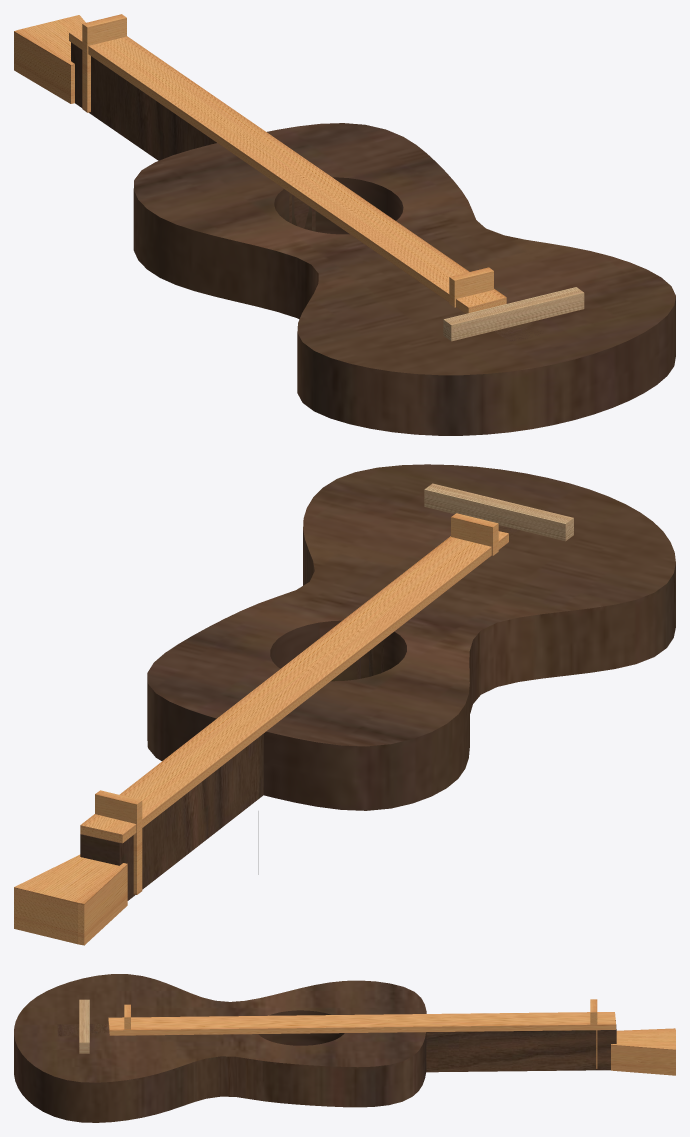
Rendered from gitar.fbx.
The picture shows the model from 3 angles, top to bottom: view 1: azimuth 30°, elevation 25°; view 2: azimuth 150°, elevation 25°; view 3: azimuth 270°, elevation 25°; orthographic projection. The views are drawn at different scales.
Visible parts, largest first — view 1: Object_4, Object_7, Object_5, Object_8, Object_3, Object_2, Object_1; view 2: Object_4, Object_7, Object_5, Object_8, Object_3, Object_2, Object_1; view 3: Object_4, Object_7, Object_5, Object_8, Object_3, Object_6, Object_2.
Boxes of the visible parts, x1=… form: Object_4: x1=133, y1=123, x2=675, y2=435; Object_7: x1=69, y1=29, x2=506, y2=313; Object_5: x1=71, y1=42, x2=315, y2=231; Object_8: x1=14, y1=15, x2=85, y2=103; Object_3: x1=443, y1=287, x2=584, y2=341; Object_2: x1=82, y1=14, x2=126, y2=112; Object_1: x1=449, y1=267, x2=493, y2=307; Object_4: x1=147, y1=464, x2=675, y2=810; Object_7: x1=80, y1=531, x2=508, y2=843; Object_5: x1=80, y1=734, x2=263, y2=900; Object_8: x1=14, y1=854, x2=127, y2=945; Object_3: x1=424, y1=483, x2=573, y2=541; Object_2: x1=95, y1=790, x2=142, y2=894; Object_1: x1=451, y1=513, x2=498, y2=555; Object_4: x1=14, y1=974, x2=426, y2=1122; Object_7: x1=108, y1=1012, x2=615, y2=1035; Object_5: x1=426, y1=1020, x2=616, y2=1072; Object_8: x1=611, y1=1028, x2=675, y2=1075; Object_3: x1=79, y1=999, x2=89, y2=1053; Object_6: x1=57, y1=1024, x2=108, y2=1036; Object_2: x1=590, y1=999, x2=597, y2=1068.
Bounding box in the file's own units: 7.62 × 19.62 × 3.71.
Materials: 4 (3 with a texture image).
